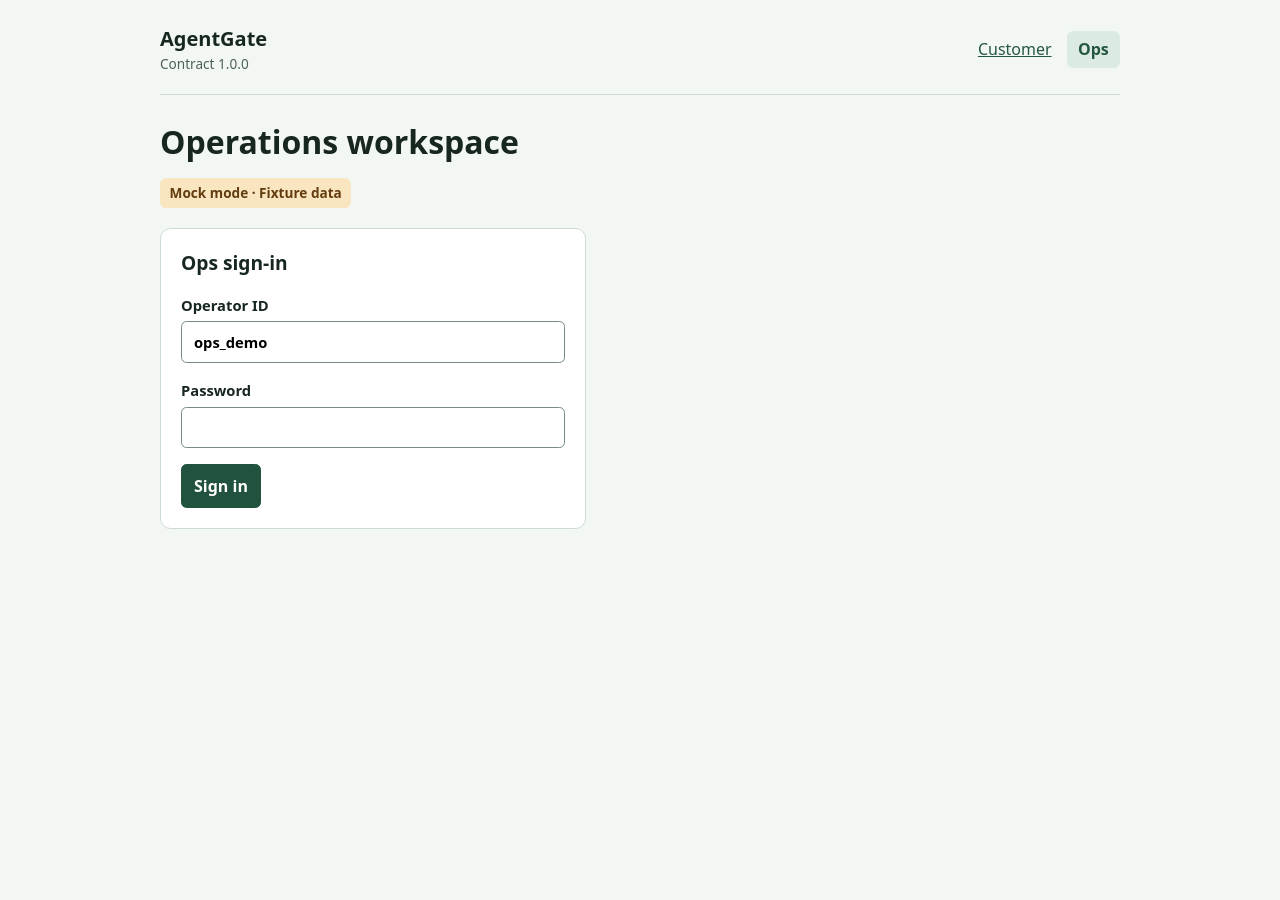
Test: fixture-backed workspaces › signs in and reads the Ops workspace
Expected: the text "Mock mode · Fixture data" is shown, x1=160 y1=178 x2=351 y2=208
Expected: the field labelled "Operator ID" holds "ops_demo", x1=181 y1=321 x2=565 y2=363
Type "agentgate-demo" into the password field labelled "Password" at (373, 427), box x1=181 y1=407 x2=565 y2=448
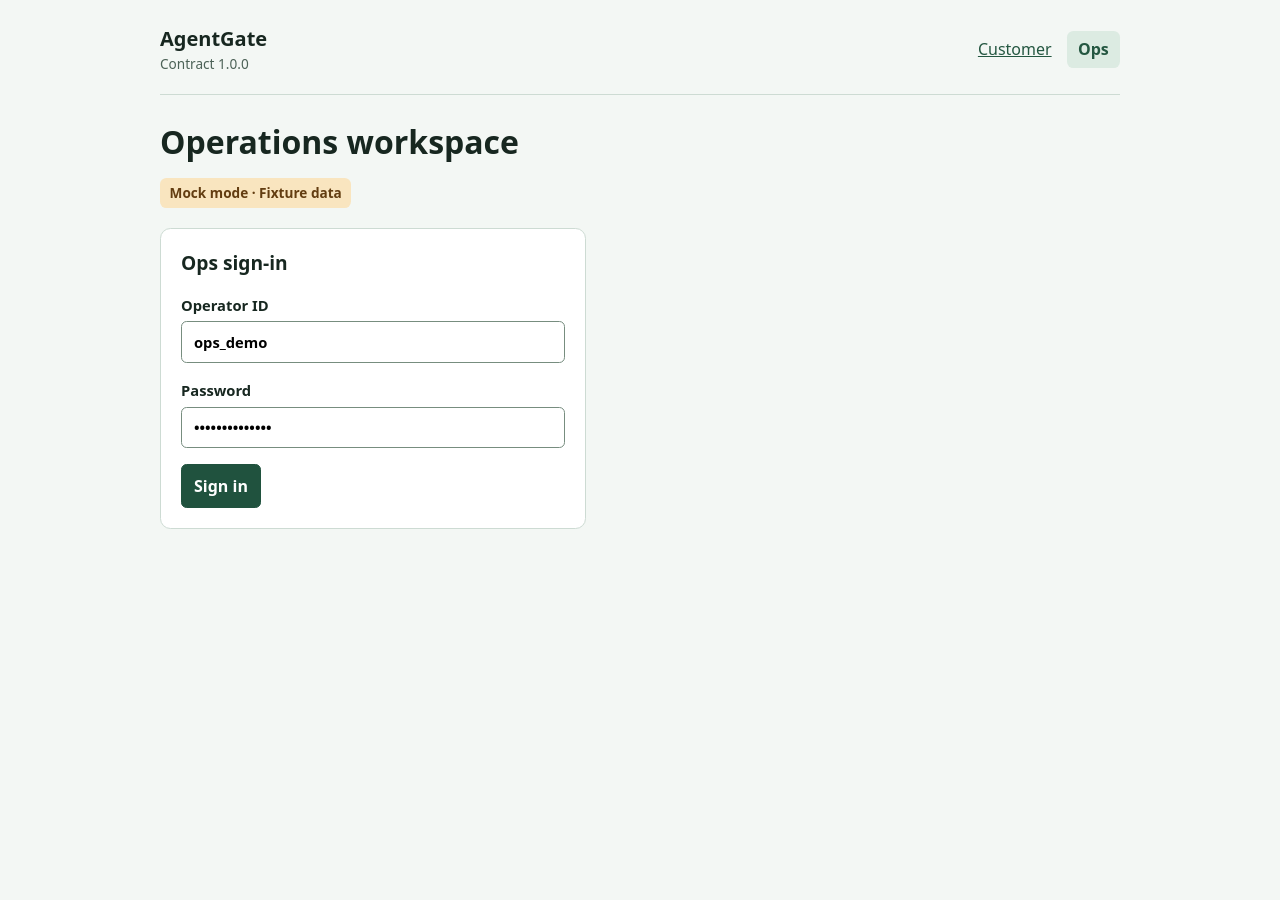
Click the button "Sign in" at (221, 486), box x1=181 y1=464 x2=261 y2=508
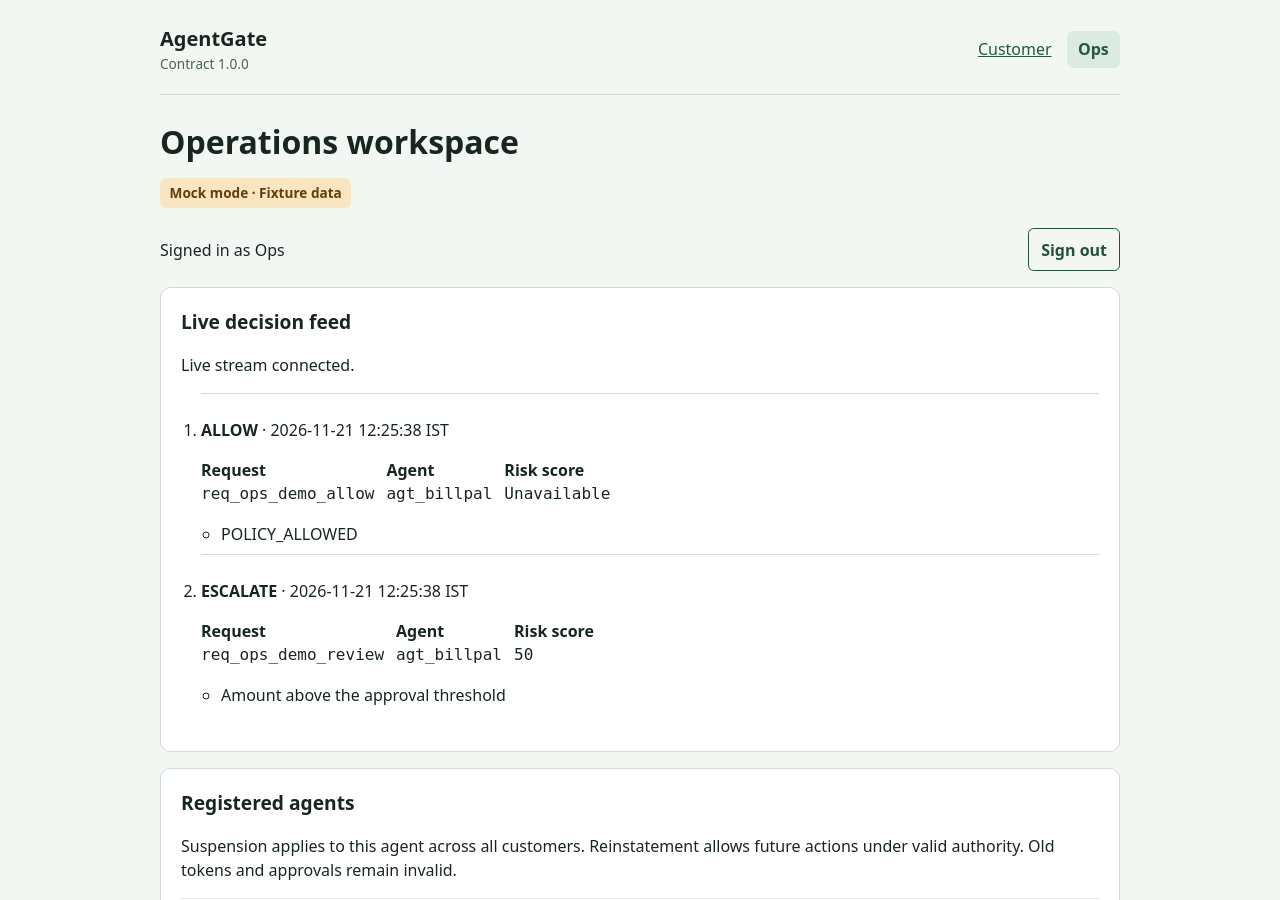
Result: the heading "Registered agents" is shown at x1=181 y1=789 x2=355 y2=816
Click the button "Sign out" at (1074, 250), box x1=1028 y1=228 x2=1120 y2=271
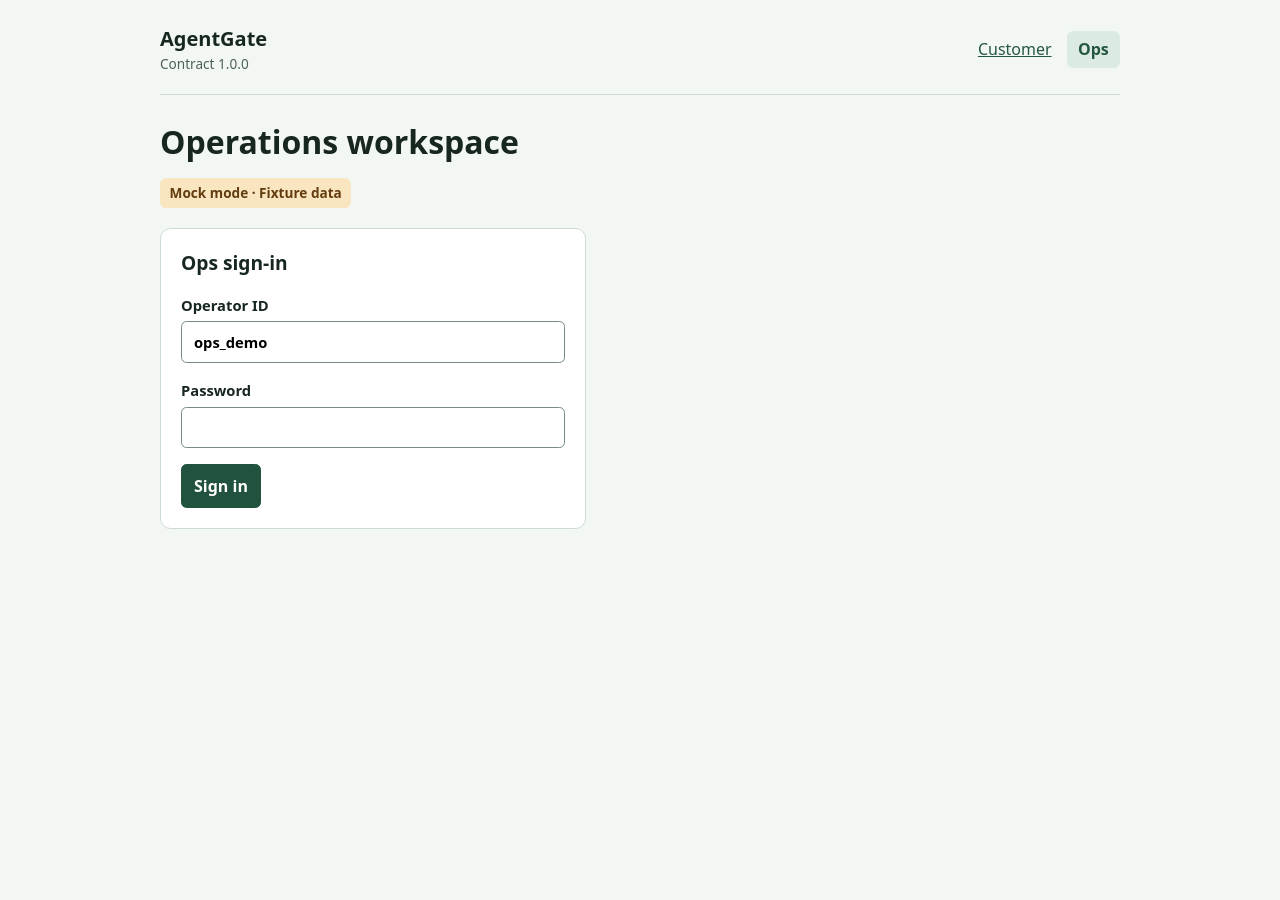
Result: the heading "Registered agents" is gone
Result: the password field labelled "Password" is empty at x1=181 y1=407 x2=565 y2=448
